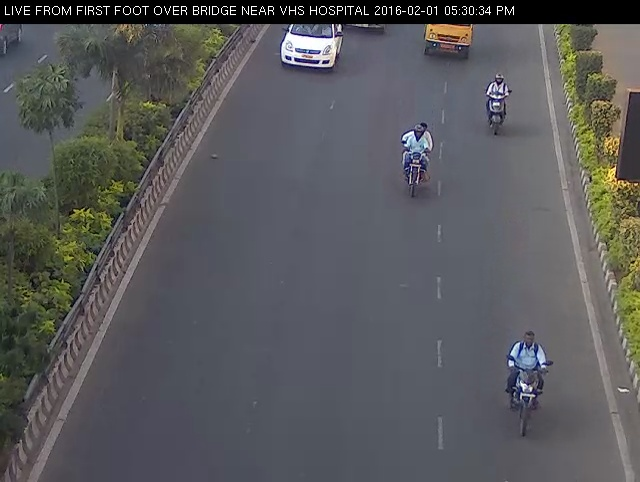Car: (273, 13, 348, 80), (413, 12, 480, 66), (334, 9, 389, 40)
Person: (486, 314, 564, 446), (385, 114, 443, 203), (476, 64, 521, 148)
